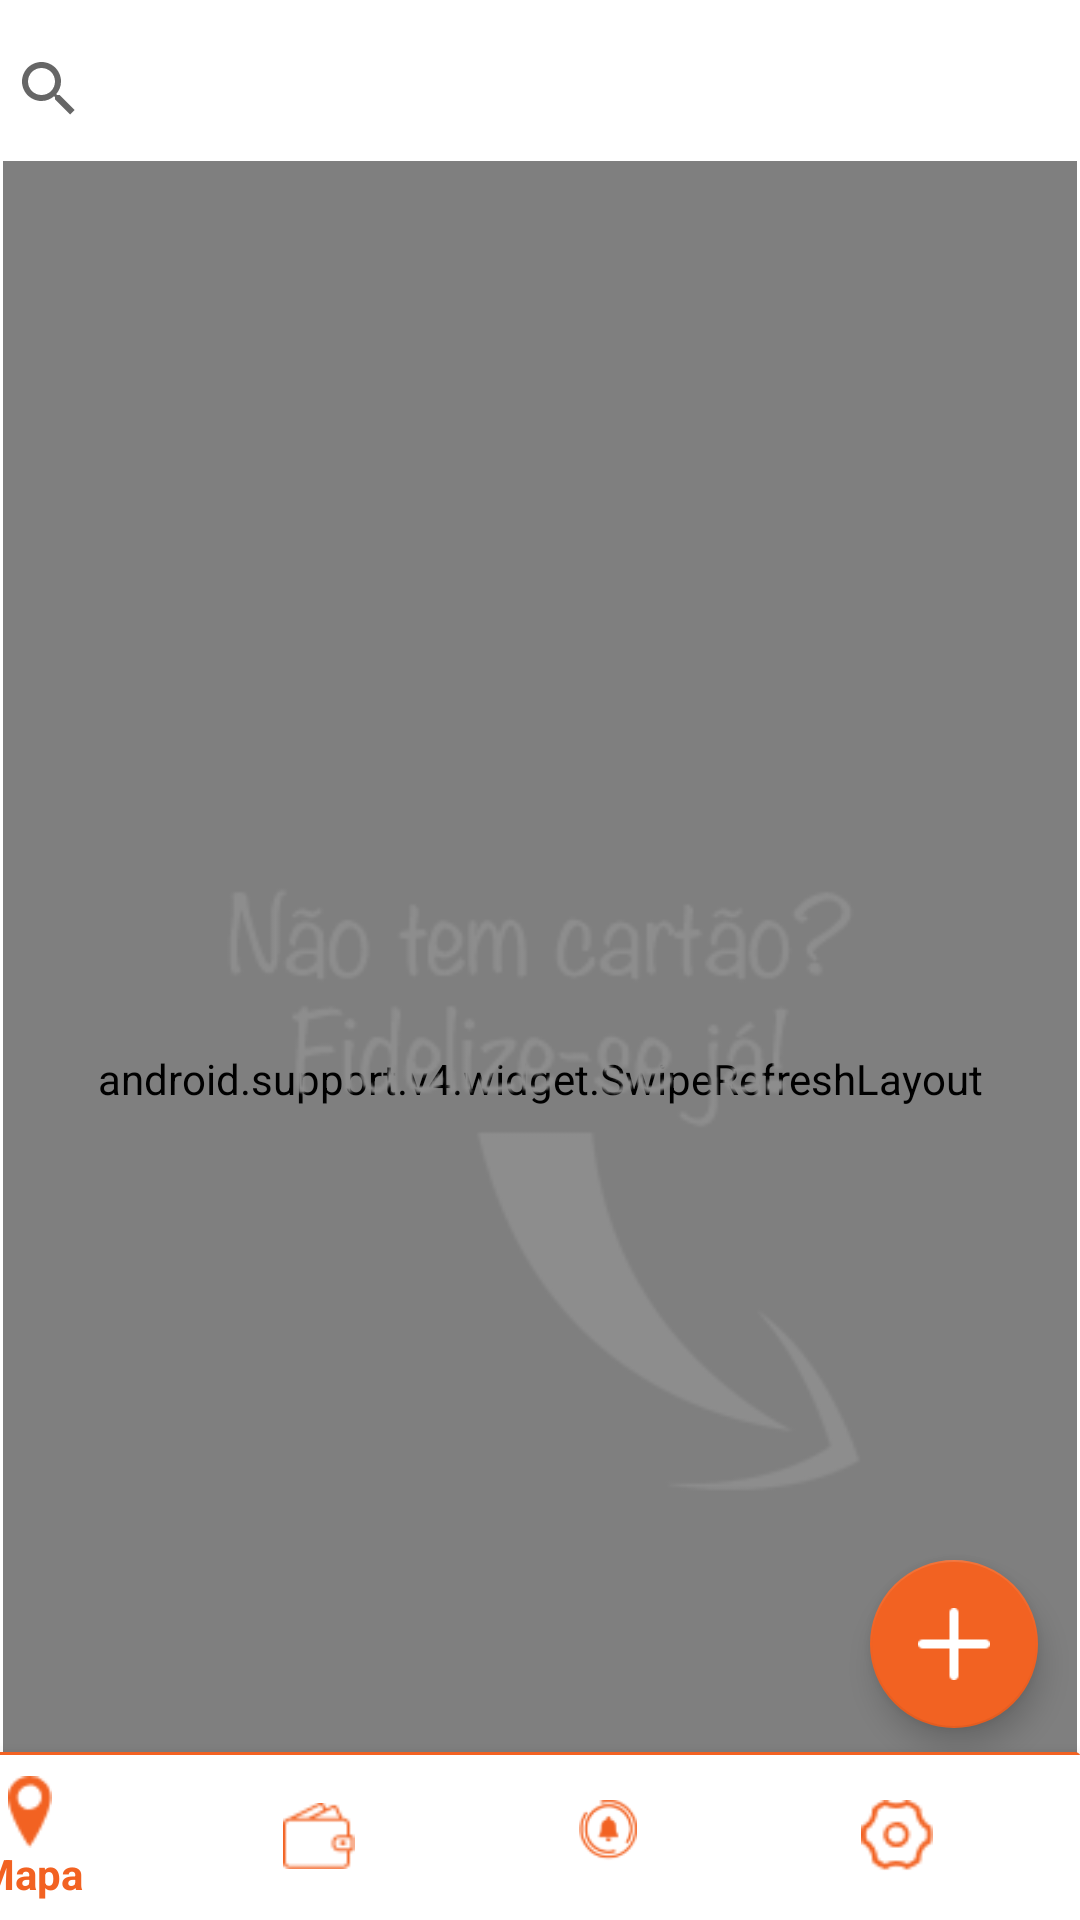

Locate icon controls on the screen. Image size 1080×1920, boxes as (x1, y1, x2, y2).
plus: (870, 1560, 1038, 1728)
